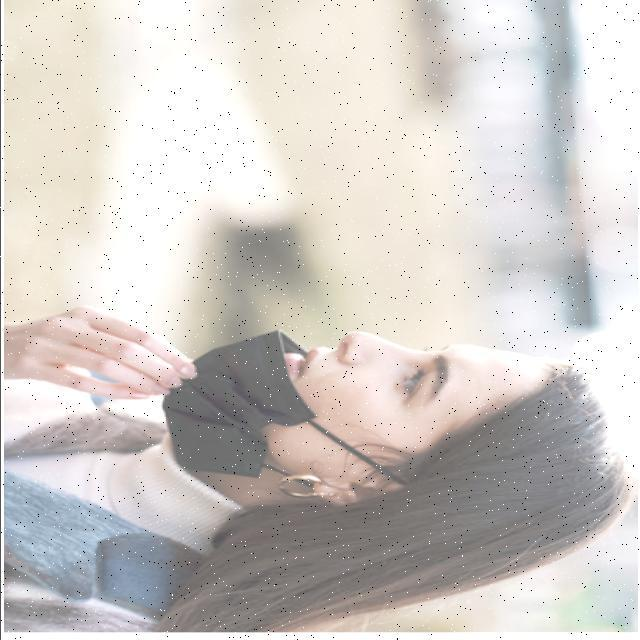face_no_mask: (257, 330, 559, 512)
